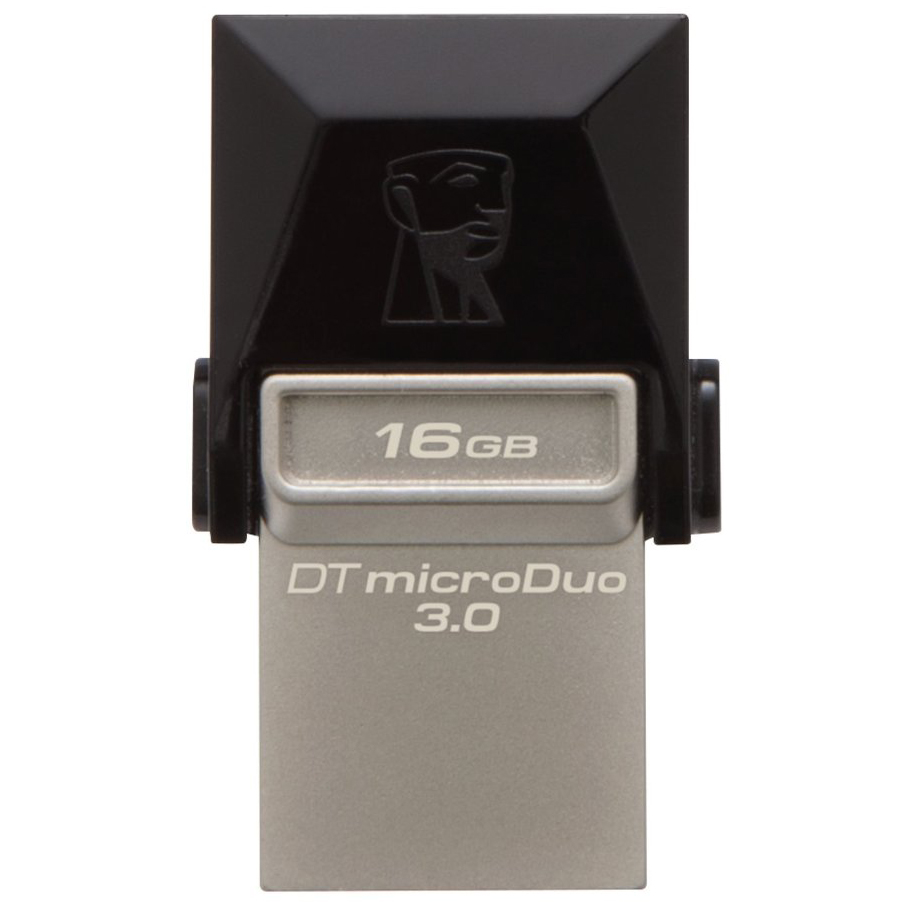Kingston: (369, 131, 524, 333)
